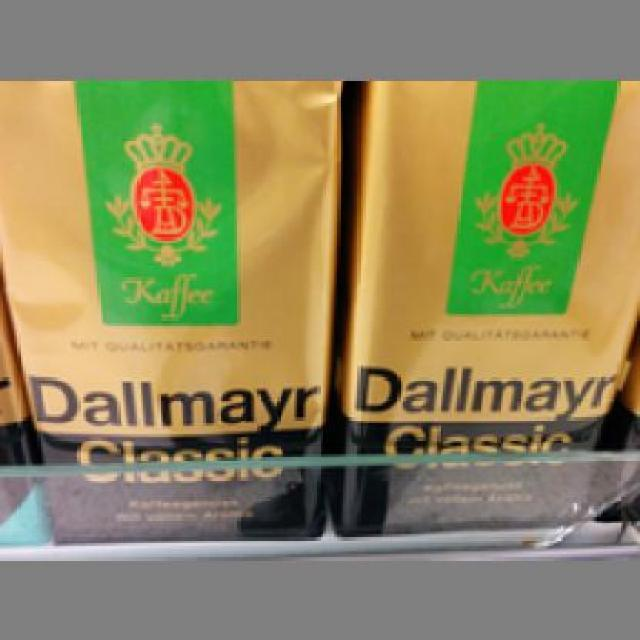Coffee: (0, 77, 340, 534), (337, 77, 637, 530)
